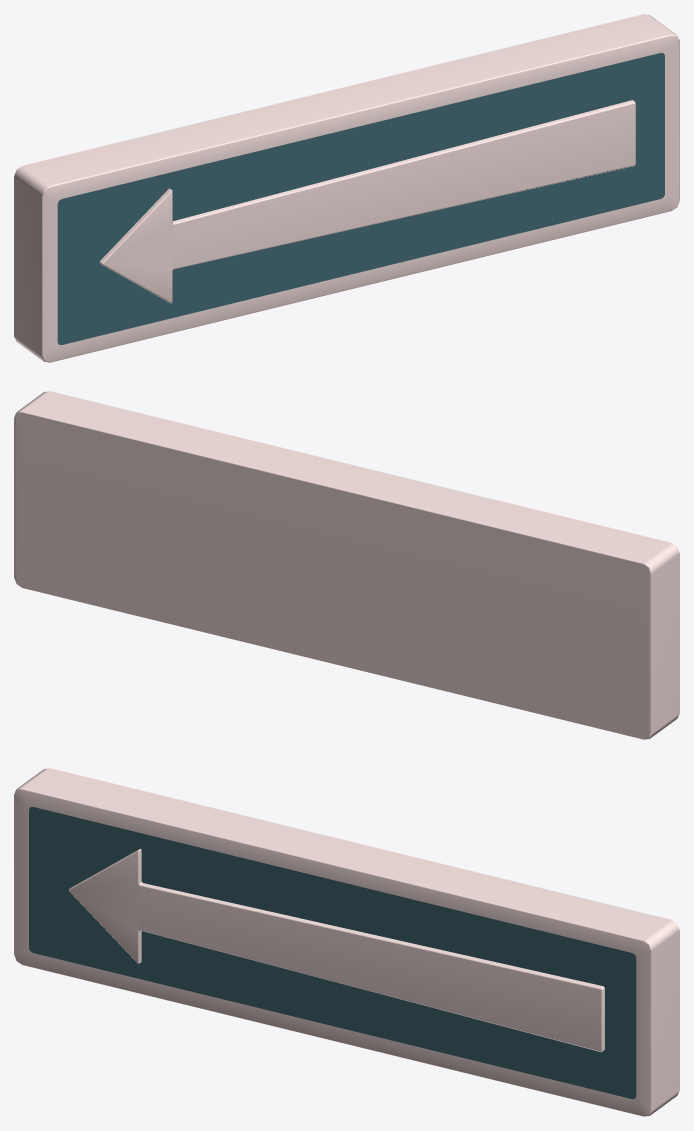
Rendered from City_5_Sign_1.glb.
3 renders of one model, top to bottom at view 1: azimuth 30°, elevation 25°; view 2: azimuth 150°, elevation 25°; view 3: azimuth 330°, elevation 25°, orthographic.
Visible parts, largest first — view 1: City_5_Sign_1; view 2: City_5_Sign_1; view 3: City_5_Sign_1.
Boxes of the visible parts, x1=… form: City_5_Sign_1: x1=14, y1=14, x2=679, y2=362; City_5_Sign_1: x1=14, y1=391, x2=679, y2=739; City_5_Sign_1: x1=14, y1=768, x2=679, y2=1116.
Size of the model in its own units: 1.2 by 0.3173 by 0.1025.
Materials: 1 (1 with a texture image).
